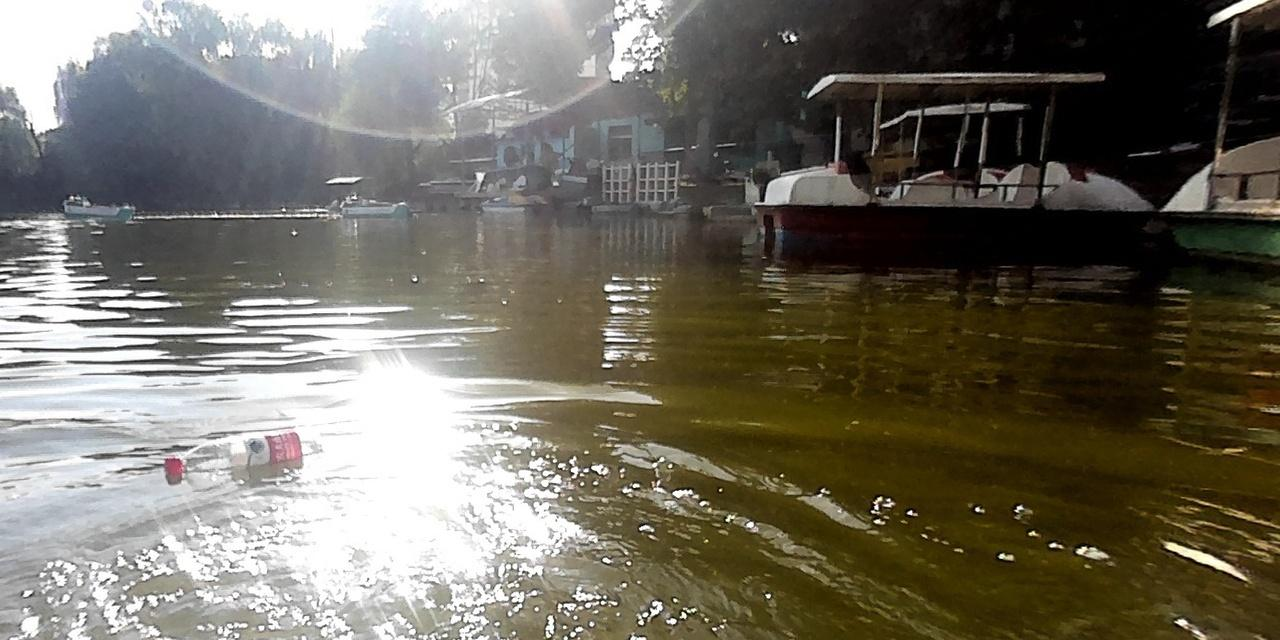bottle: (162, 430, 322, 475)
